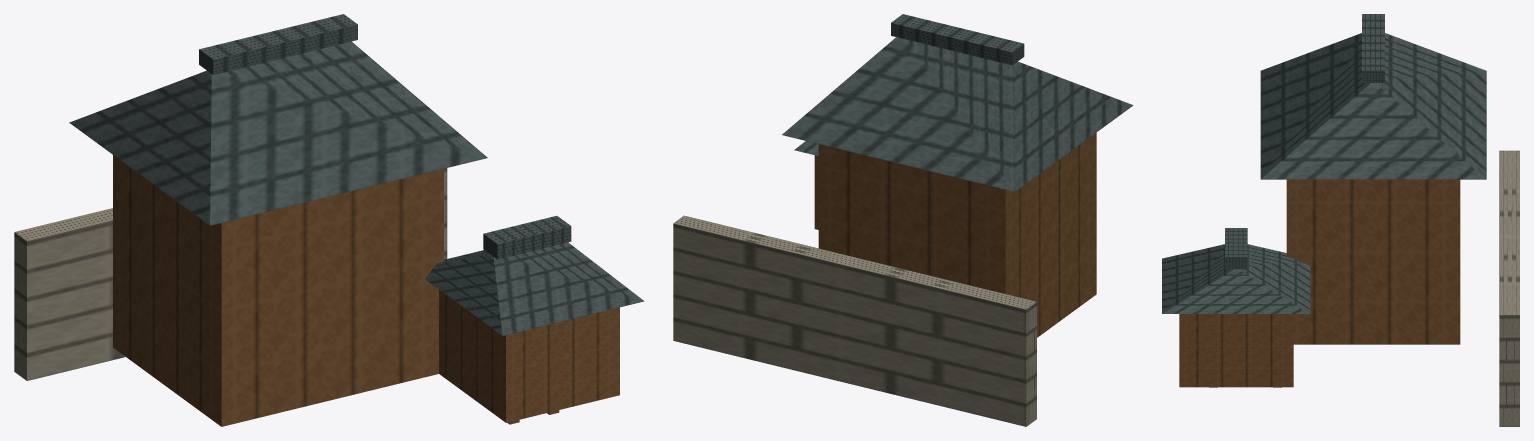
The model's file is domestic-STABLE-3-lod1.glb.
The picture shows the model from 3 angles, left to right: view 1: azimuth 30°, elevation 25°; view 2: azimuth 150°, elevation 25°; view 3: azimuth 270°, elevation 25°; orthographic projection. The views are drawn at different scales.
Bounding box in the file's own units: 0.85 × 0.695 × 0.7825.
1 material, 1 textured.
